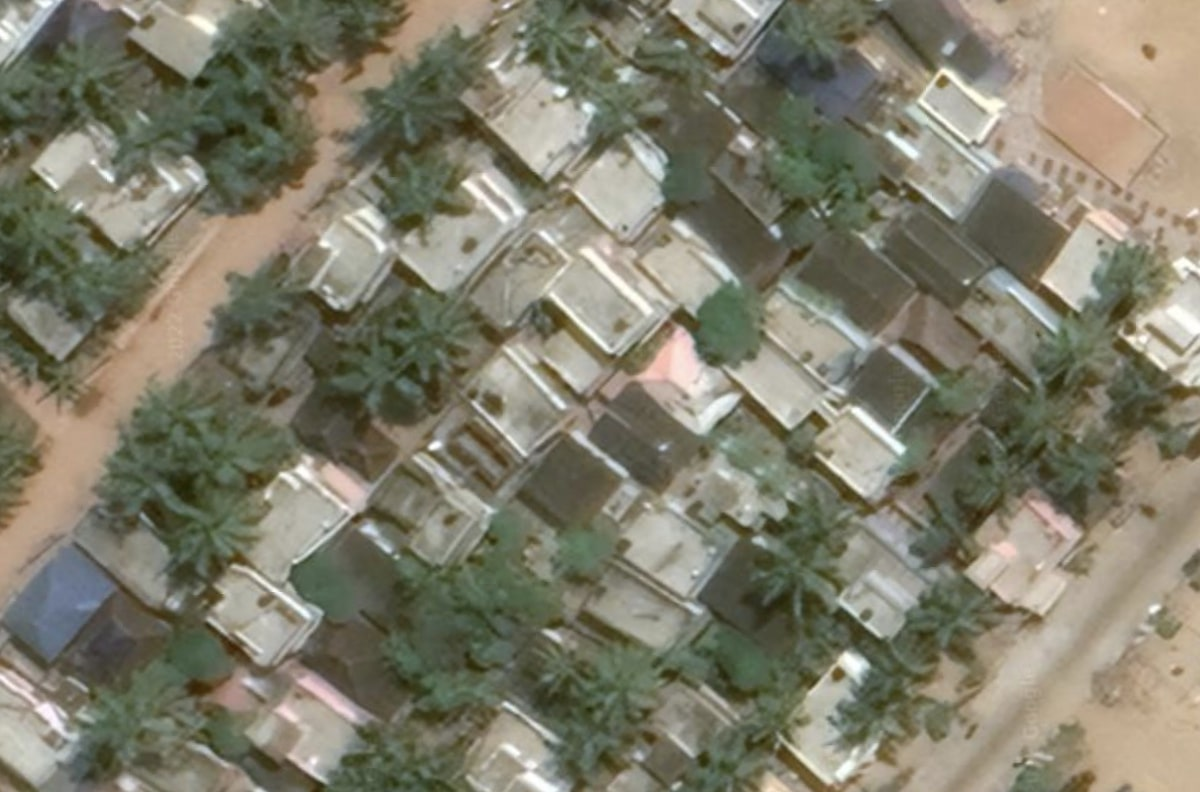coconut: (107, 359, 221, 472), (147, 479, 266, 586), (172, 409, 280, 512), (326, 326, 428, 429), (360, 149, 479, 235), (388, 286, 493, 383), (752, 0, 858, 88), (77, 440, 173, 534), (45, 30, 144, 121), (365, 55, 454, 142), (764, 542, 836, 642), (1035, 296, 1111, 384), (780, 484, 866, 561), (586, 647, 661, 724), (523, 4, 597, 76), (523, 638, 583, 699)
